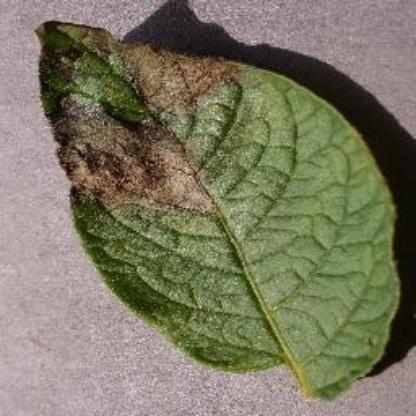Late-Blight: (25, 9, 416, 402)
